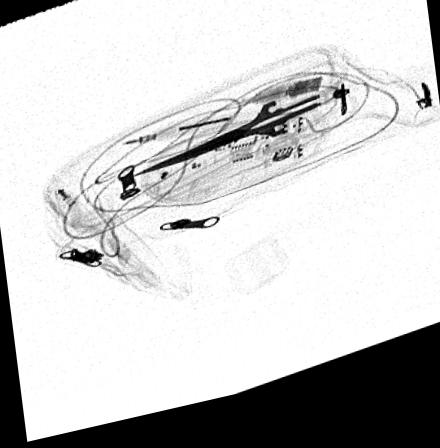Scissors: (118, 72, 363, 188)
